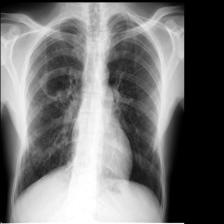tuberculosis: (9, 14, 169, 209)
